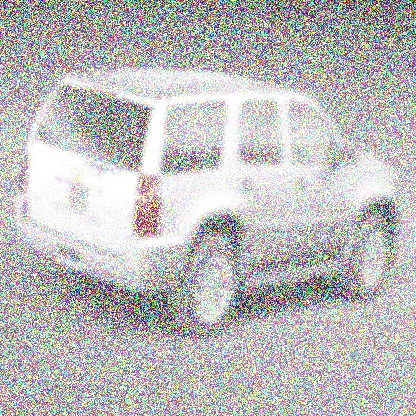Vehicle: (14, 63, 402, 341)
